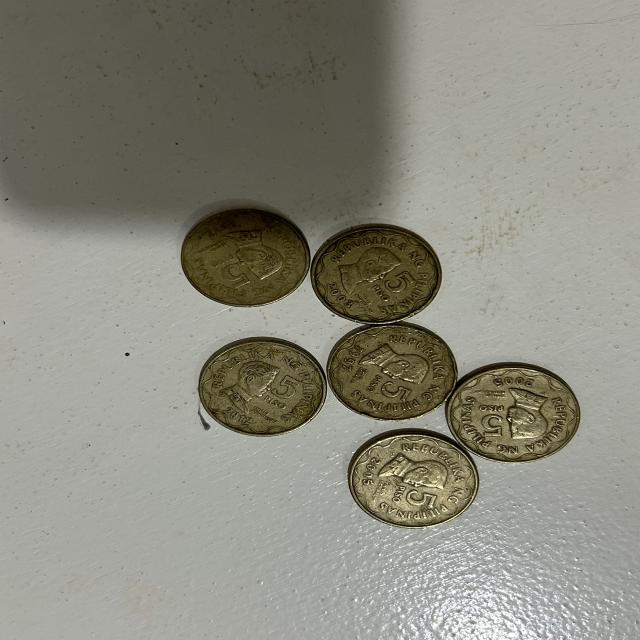5_Old_Front: (363, 366, 412, 414), (366, 267, 422, 307), (208, 249, 258, 291), (476, 396, 517, 446), (383, 480, 449, 510), (261, 372, 308, 408)
